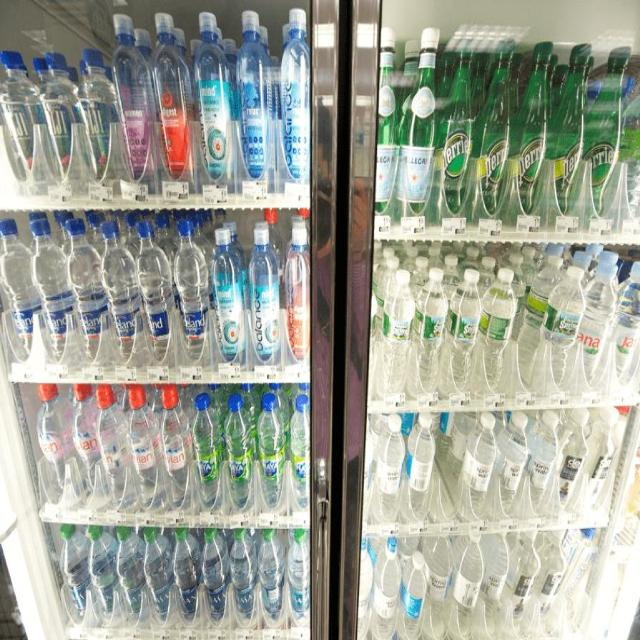bottle: (109, 11, 164, 190), (584, 45, 634, 228), (194, 11, 240, 200), (26, 220, 87, 362), (151, 12, 198, 196), (41, 47, 98, 197), (76, 44, 133, 191), (60, 218, 118, 360), (0, 41, 54, 193), (399, 26, 441, 219), (98, 218, 152, 365), (0, 217, 51, 365), (236, 9, 275, 196), (530, 262, 585, 393), (476, 36, 514, 225), (516, 41, 554, 230), (132, 221, 180, 363), (276, 7, 310, 201), (555, 44, 590, 231), (173, 218, 215, 366), (209, 226, 250, 367), (518, 255, 562, 382), (373, 268, 412, 401), (442, 47, 472, 215), (247, 224, 282, 366), (478, 267, 515, 399), (34, 383, 76, 494), (414, 265, 448, 398), (159, 386, 194, 511), (458, 411, 498, 520), (376, 25, 398, 222), (446, 266, 480, 390), (129, 384, 161, 512), (583, 260, 615, 384), (255, 392, 288, 512), (285, 223, 311, 366), (374, 412, 406, 520), (100, 384, 128, 504), (616, 256, 640, 393), (510, 530, 541, 636), (193, 390, 220, 511), (528, 410, 560, 511), (497, 412, 528, 516), (56, 524, 90, 618), (560, 408, 590, 513), (173, 525, 204, 626), (225, 393, 252, 507), (454, 531, 484, 632), (424, 532, 453, 636), (231, 527, 260, 630), (142, 528, 173, 624), (590, 405, 618, 511), (407, 414, 436, 516), (373, 537, 401, 640), (288, 392, 311, 510), (204, 529, 232, 625), (261, 528, 287, 628), (486, 530, 510, 634), (90, 528, 118, 616), (77, 383, 98, 499), (287, 527, 310, 626), (402, 552, 427, 638), (118, 526, 142, 610), (358, 536, 372, 640)
